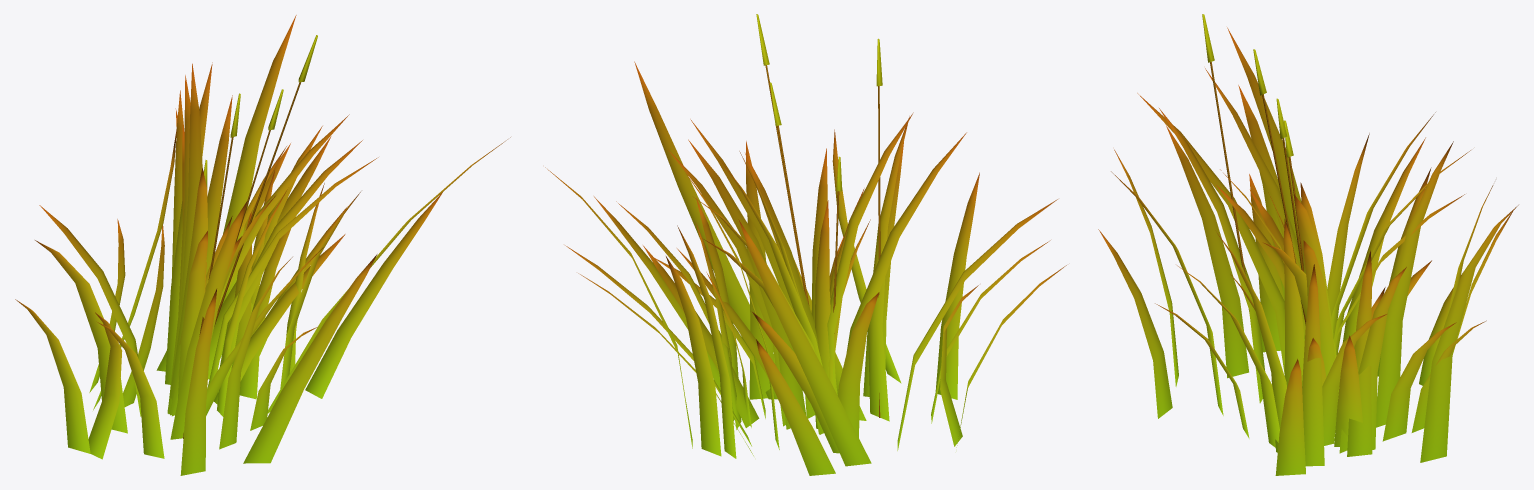
File: cottongrass.glb
The picture shows the model from 3 angles, left to right: view 1: azimuth 30°, elevation 25°; view 2: azimuth 150°, elevation 25°; view 3: azimuth 270°, elevation 25°; orthographic projection. The views are drawn at different scales.
Visible parts, largest first — view 1: v0, v1, v3, v2; view 2: v0, v1, v3, v2; view 3: v0, v2, v1, v3.
Part boxes in pixels (left/top/right/bottom): v0: left=15, top=15, right=378, bottom=475; v1: left=88, top=127, right=510, bottom=463; v3: left=167, top=35, right=349, bottom=439; v2: left=97, top=90, right=324, bottom=458; v0: left=545, top=132, right=1066, bottom=456; v1: left=565, top=61, right=978, bottom=475; v3: left=690, top=14, right=913, bottom=434; v2: left=616, top=142, right=1050, bottom=458; v0: left=1114, top=27, right=1518, bottom=462; v2: left=1111, top=124, right=1493, bottom=466; v1: left=1098, top=167, right=1486, bottom=475; v3: left=1159, top=14, right=1470, bottom=403.
Size of the model in its own units: 15.43 by 11.75 by 10.72.
